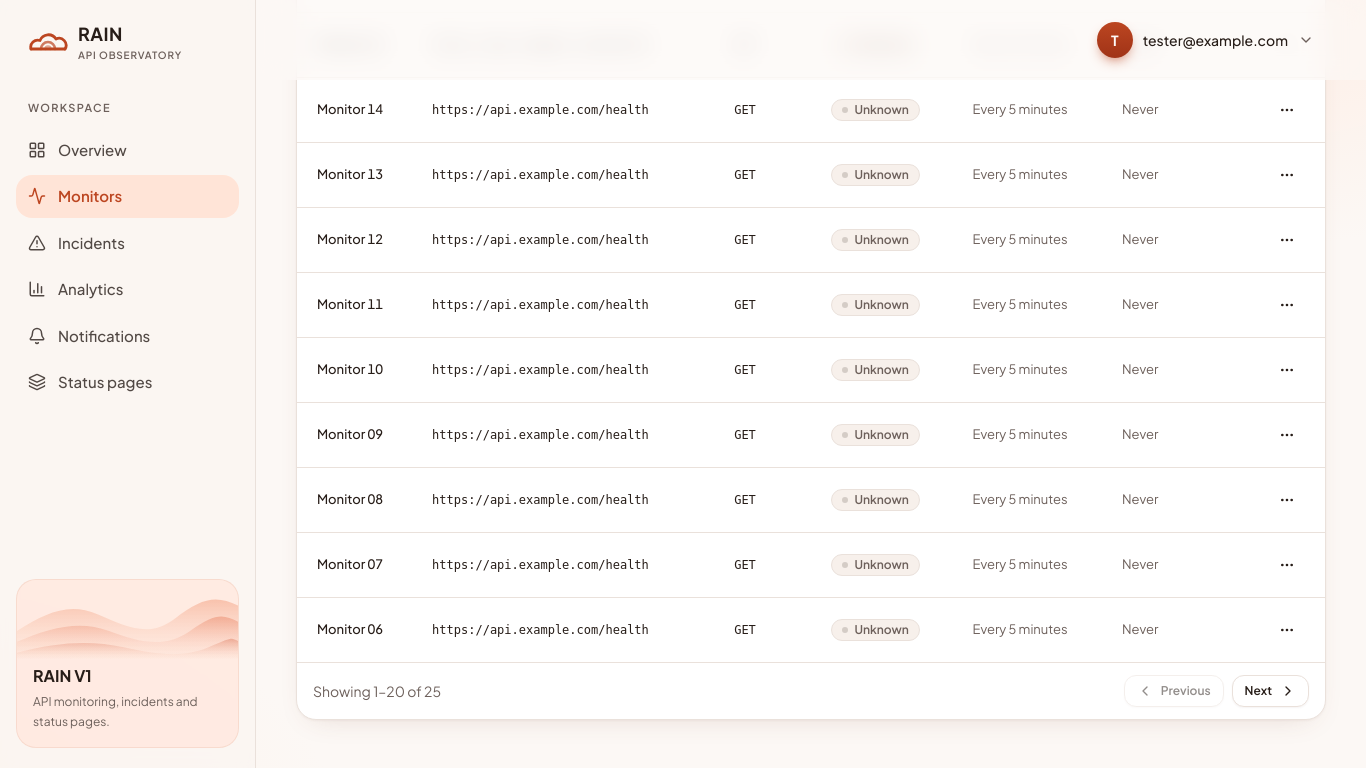
it: monitor registry › pages through results with cursors and shows the range
(page scrolled)
Expected: the text "Showing 1–20 of 25" is shown, [313,680,441,700]
Expected: the button "Previous" is disabled, [1124,674,1224,706]
Click the button "Next" at (1270, 690), box [1232,674,1309,706]
(page scrolled)
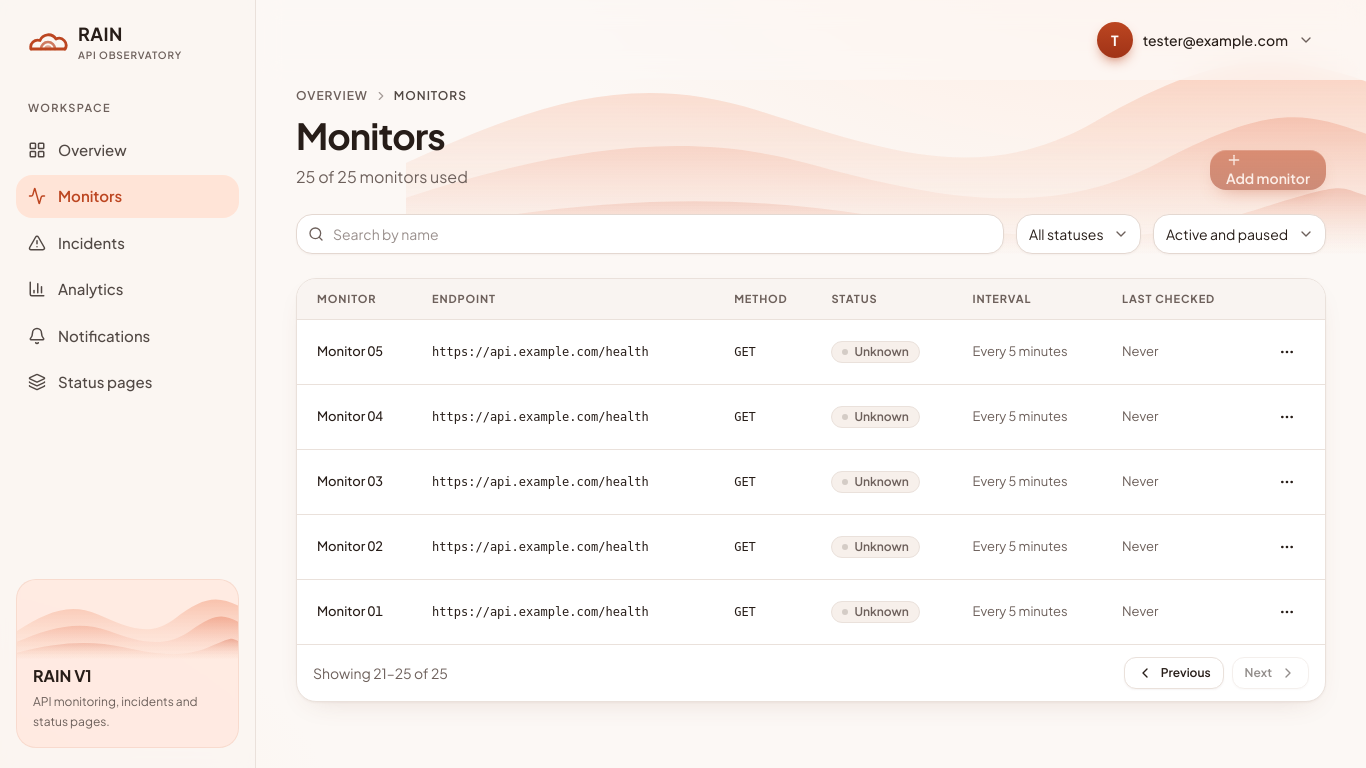
Result: the text "Showing 21–25 of 25" is shown at [313,662,448,682]
Result: the link "Monitor 01" is shown at [317,603,383,619]
Result: the button "Next" is disabled at [1232,656,1309,688]
Click the button "Previous" at (1174, 672), box [1124,656,1224,688]
(page scrolled)
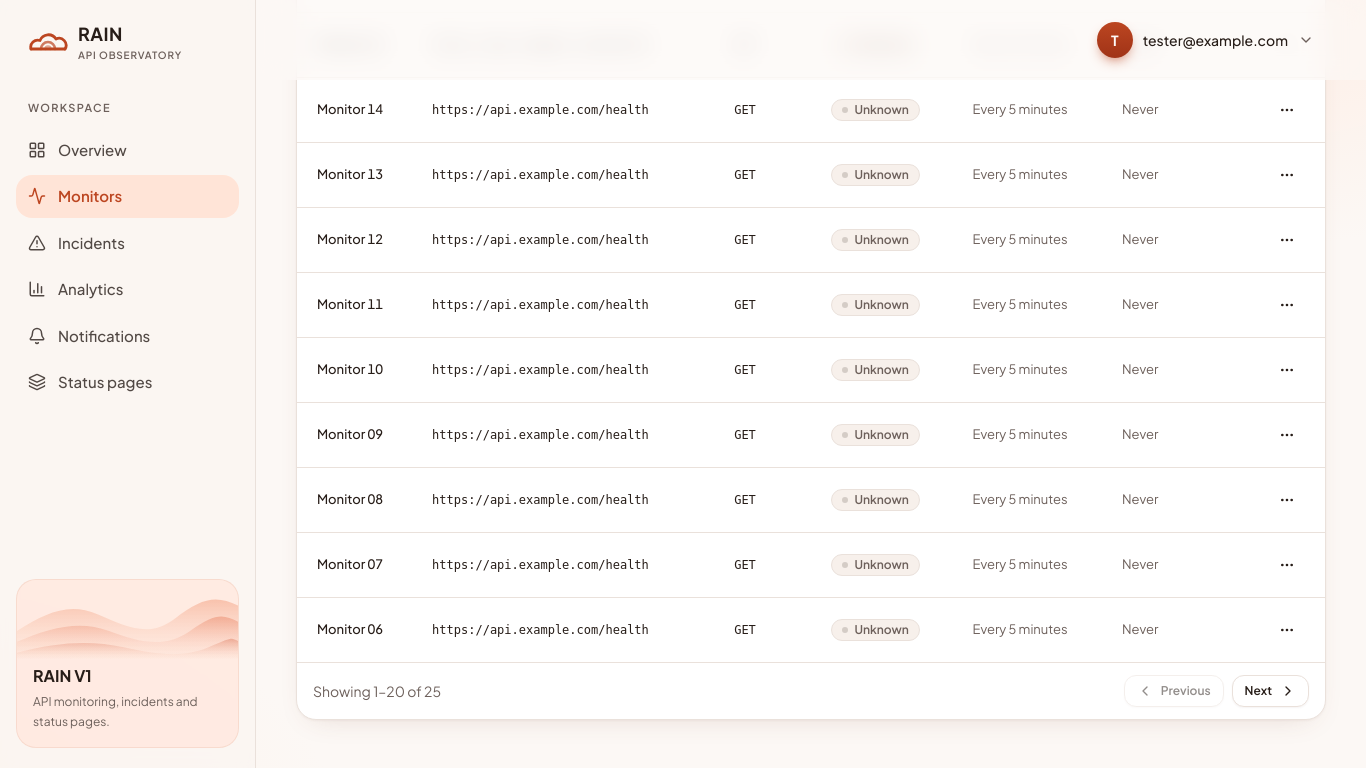
Result: the text "Showing 1–20 of 25" is shown at [313,680,441,700]
